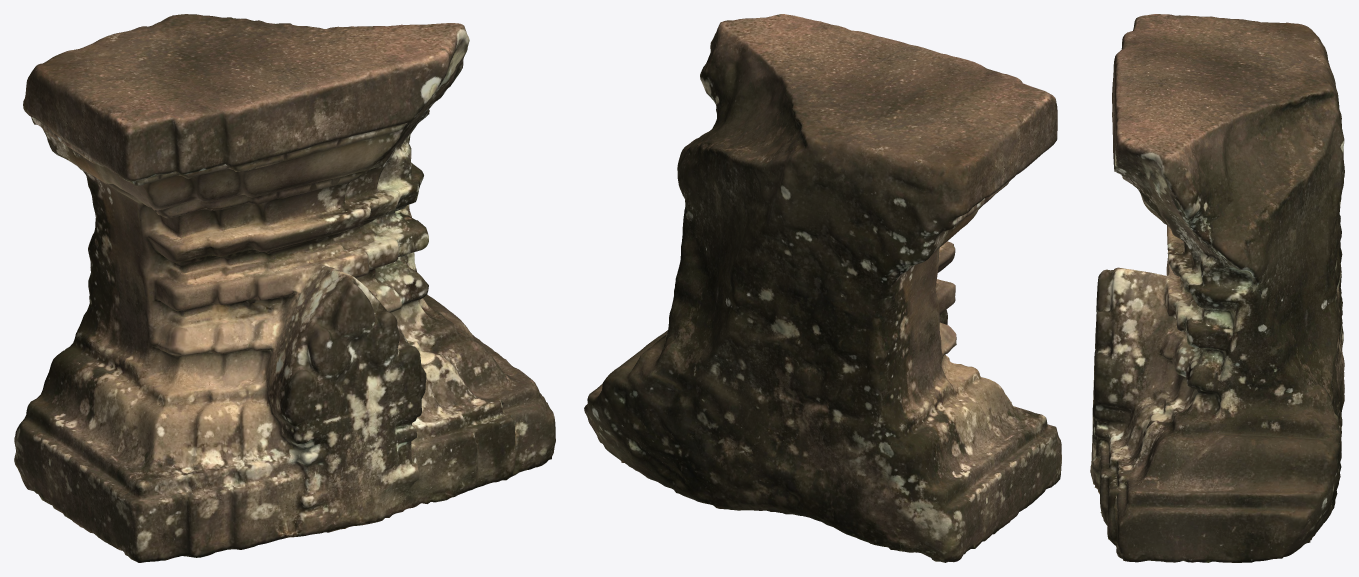
The model's file is 06_MysonSanctuaryD_VatTrangTriChanTuong_final.glb.
3 views of the same model, side by side, from view 1: azimuth 30°, elevation 25°; view 2: azimuth 150°, elevation 25°; view 3: azimuth 270°, elevation 25° (orthographic). The views are drawn at different scales.
Size of the model in its own units: 1.1 by 1.1 by 0.6559.
1 material, 1 textured.
